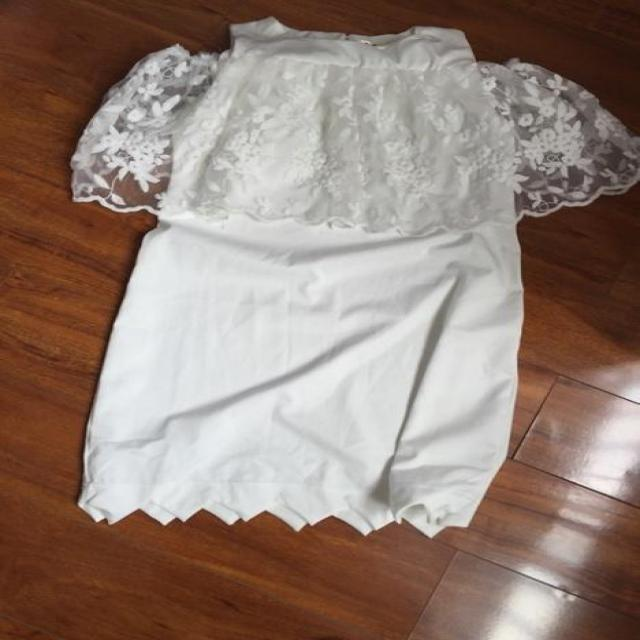long sleeve dress: (71, 18, 639, 526)
